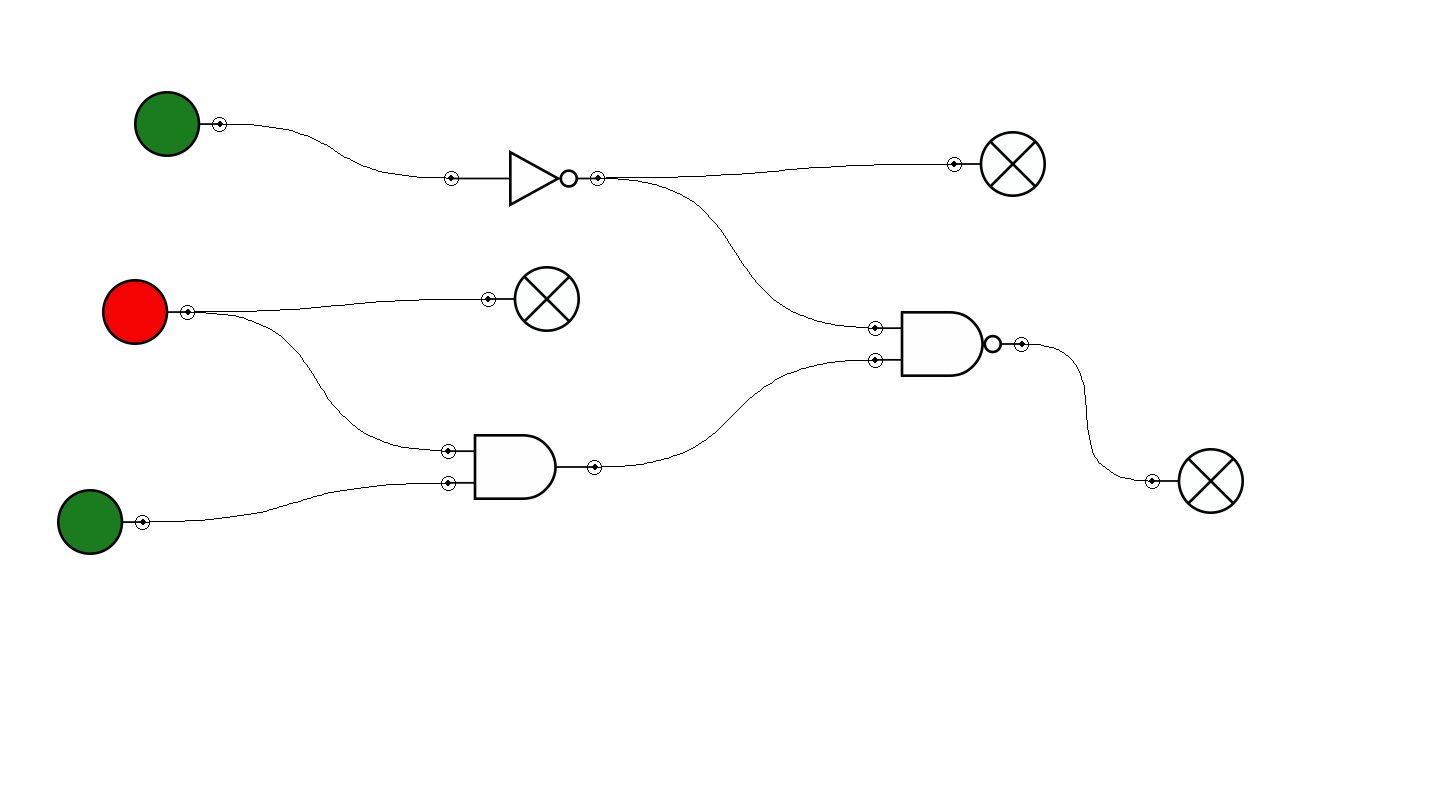and: (441, 434, 602, 500)
bulb: (481, 266, 580, 332), (1145, 448, 1244, 514), (947, 131, 1046, 197)
nand: (868, 311, 1029, 377)
not: (444, 150, 605, 207)
switch_False: (102, 279, 195, 345)
switch_True: (134, 91, 227, 157), (57, 489, 150, 555)
